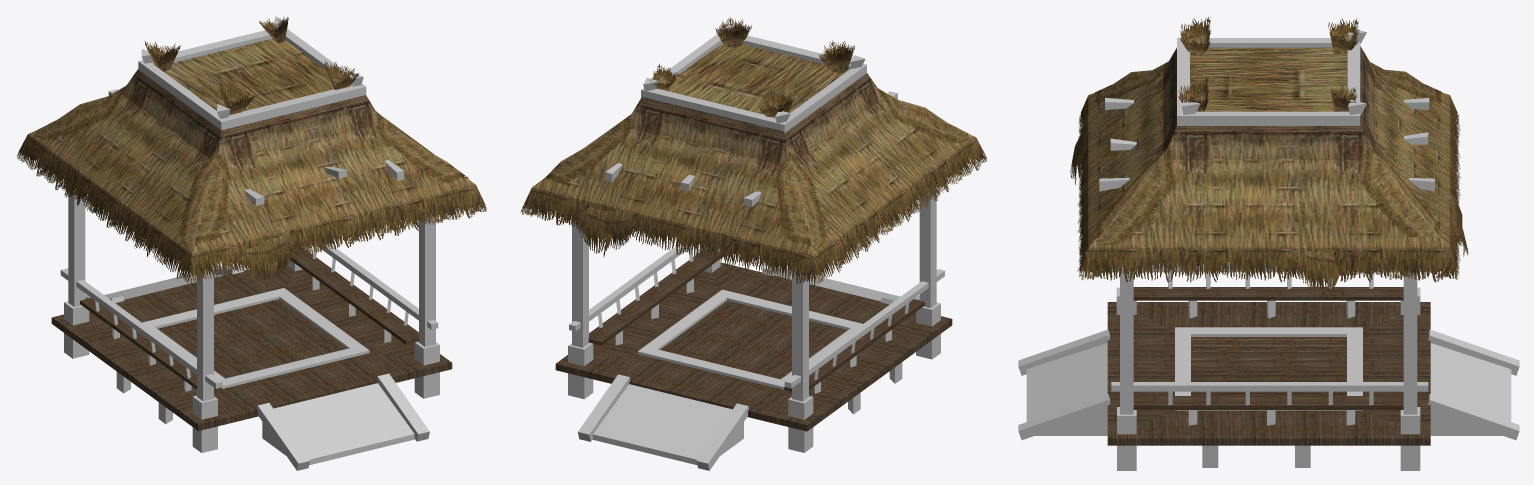
Rendered from maocaoting_yc_20.fbx.
The picture shows the model from 3 angles, left to right: view 1: azimuth 30°, elevation 25°; view 2: azimuth 150°, elevation 25°; view 3: azimuth 270°, elevation 25°; orthographic projection. The views are drawn at different scales.
Parts seen in each view (by area): view 1: maocaoting_yc_20_02, maocaoting_yc_20_01; view 2: maocaoting_yc_20_02, maocaoting_yc_20_01; view 3: maocaoting_yc_20_02, maocaoting_yc_20_01.
Part boxes in pixels (x1,y1,x2,y2): maocaoting_yc_20_02: (16,16,486,286); maocaoting_yc_20_01: (51,186,452,470); maocaoting_yc_20_02: (520,17,987,285); maocaoting_yc_20_01: (555,185,952,470); maocaoting_yc_20_02: (1070,17,1468,299); maocaoting_yc_20_01: (1018,262,1519,470).
Size of what is drawn, in the model's own units: 1081 by 1093 by 1375.
